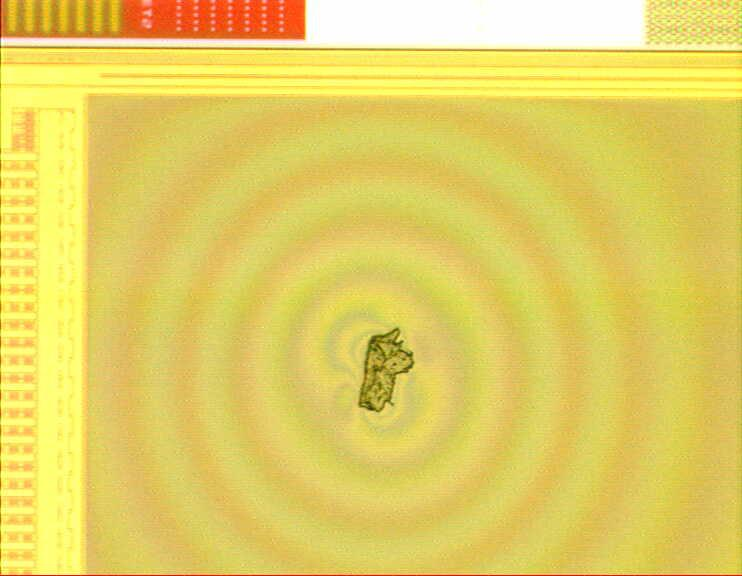PIQ PARTICLE: (357, 326, 420, 419)
